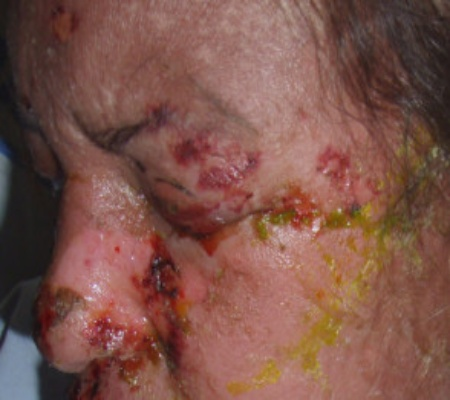SJS-TEN: (23, 93, 448, 400), (18, 0, 106, 68)
